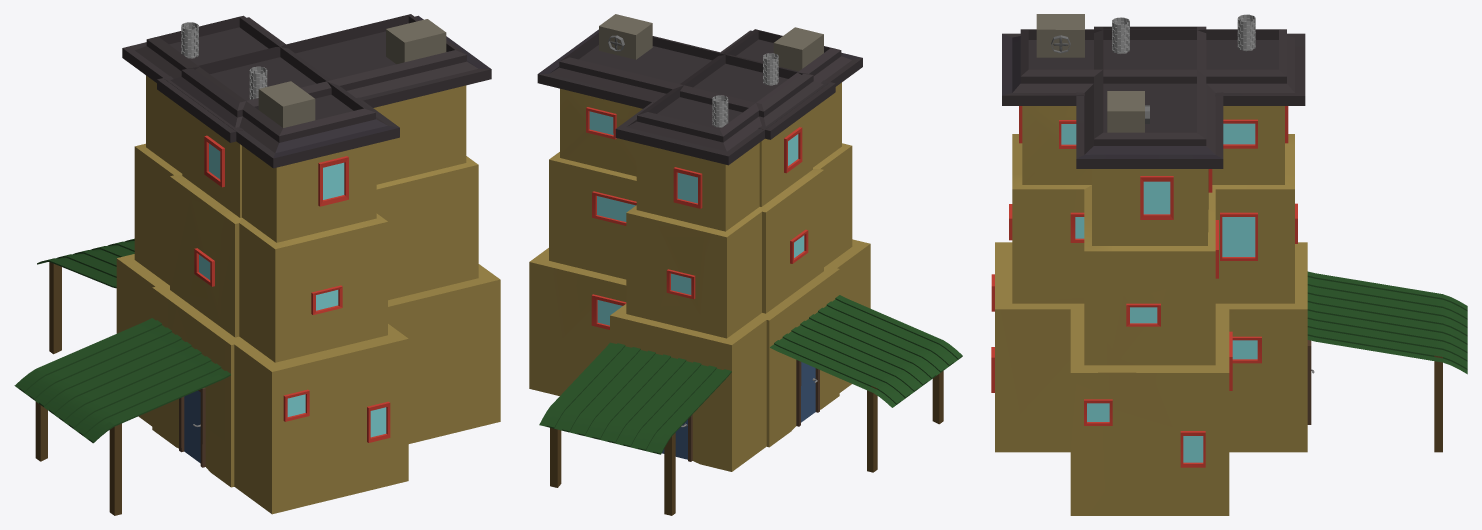
The model's file is Combo favela large 2.fbx.
3 renders of one model, left to right at view 1: azimuth 30°, elevation 25°; view 2: azimuth 150°, elevation 25°; view 3: azimuth 270°, elevation 25°, orthographic. The views are drawn at different scales.
Visible parts, largest first — view 1: Big_Favelahouse.007, Big_Favelahouse.001; view 2: Big_Favelahouse.001, Big_Favelahouse.007; view 3: Big_Favelahouse.001, Big_Favelahouse.007.
Boxes of the visible parts, x1,y1,x2,y2 form: Big_Favelahouse.007: [14, 14, 500, 515]; Big_Favelahouse.001: [37, 15, 408, 514]; Big_Favelahouse.001: [539, 27, 870, 515]; Big_Favelahouse.007: [529, 14, 962, 472]; Big_Favelahouse.001: [991, 14, 1467, 452]; Big_Favelahouse.007: [1070, 17, 1232, 515].
Size of the model in its own units: 2636 by 2371 by 2636.
